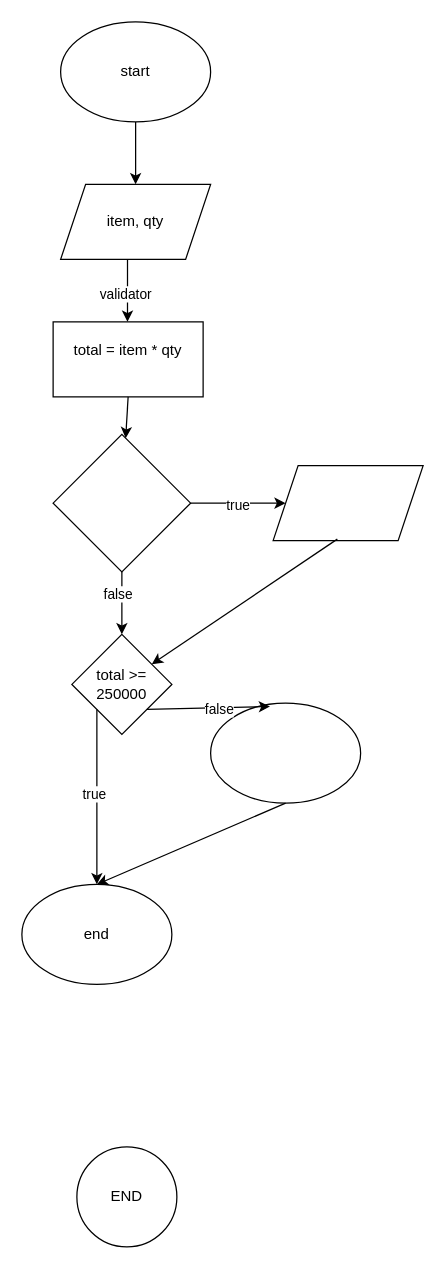
This 445x1269 diagram has some shape labels left out. The shapes that lost their labels are listed below. From the top down, each one's centre as x and y in pixels, then its label:
point 121,502: isMember ?
point 347,502: diskon 10%
point 285,752: total += 15000
